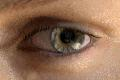eye: (51, 30, 83, 51)
